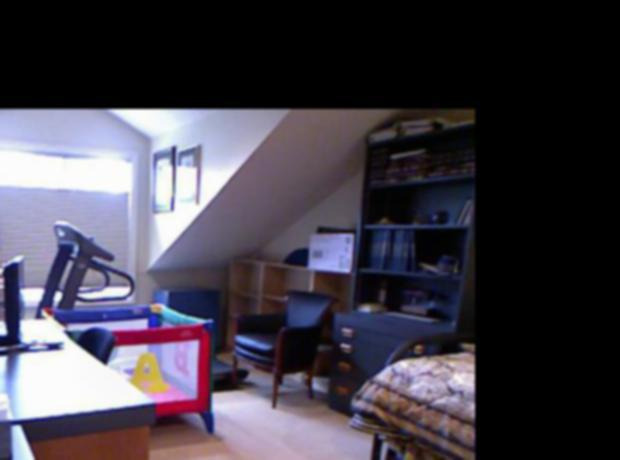Armario: (331, 120, 471, 403)
